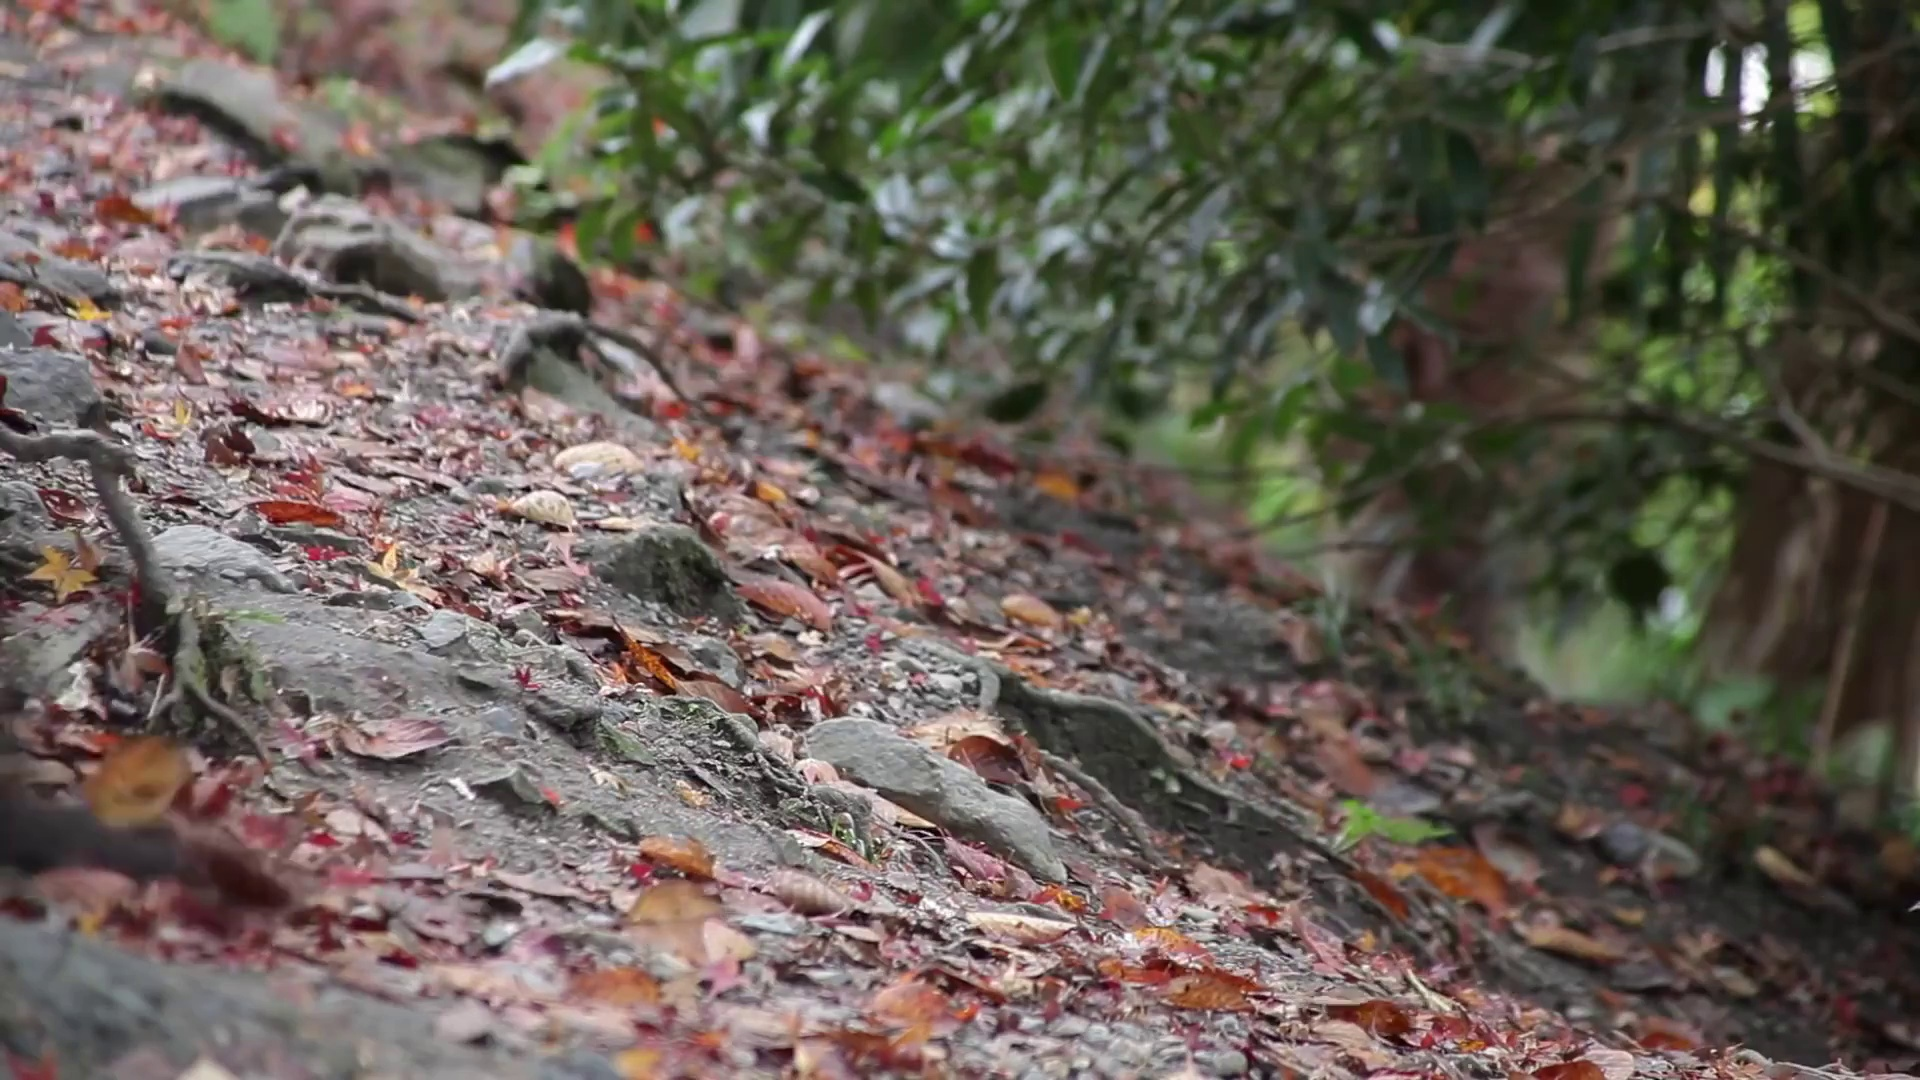black-white: (3, 781, 298, 922)
